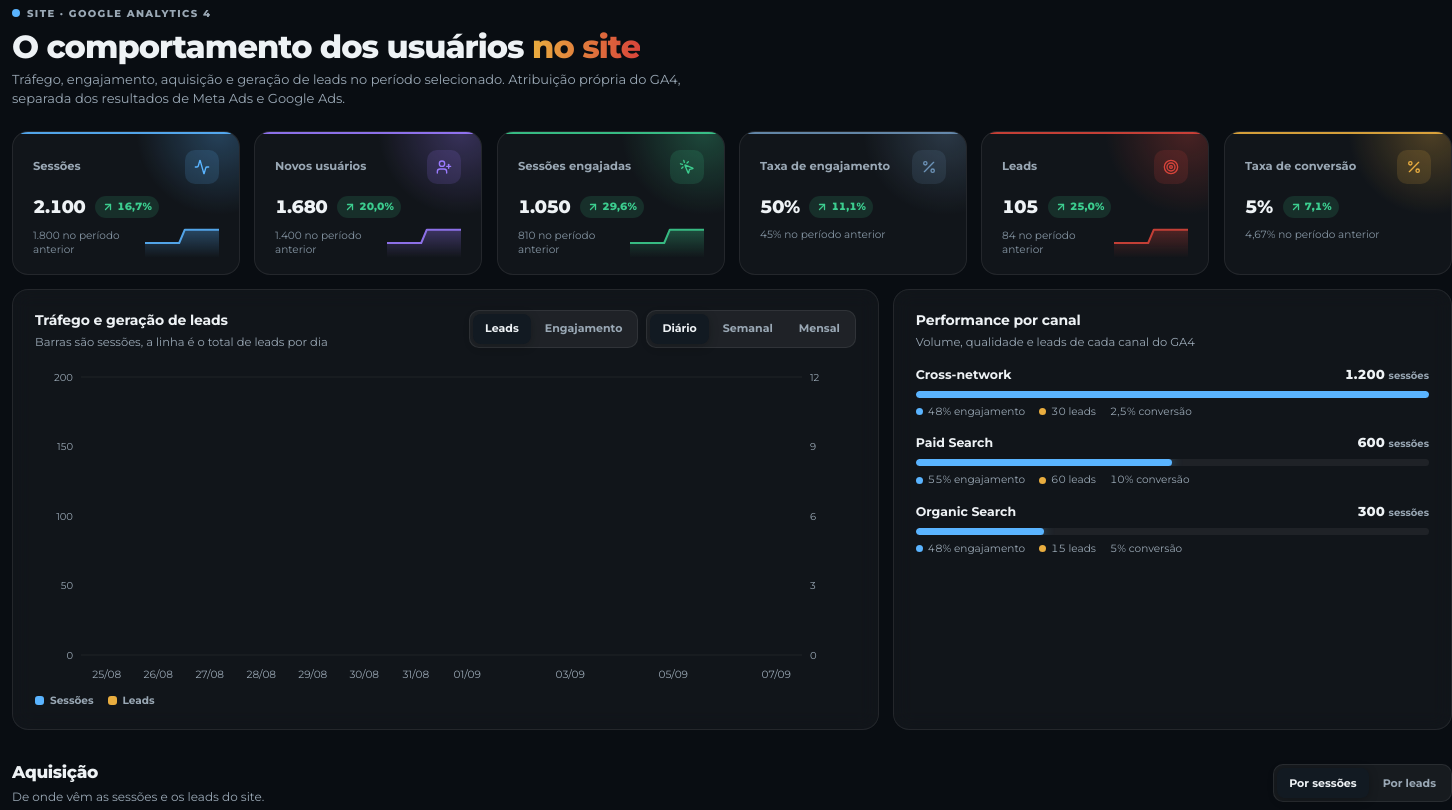
Scenario: aba Site: gráfico Tráfego e geração de leads › agrupa em semanas e em meses pelo seletor
Check: the element with test id "site-traffic-chart" is shown, box [35,365,856,685]
Click the tab "Semanal" at (748, 329), box [711,314,785,344]
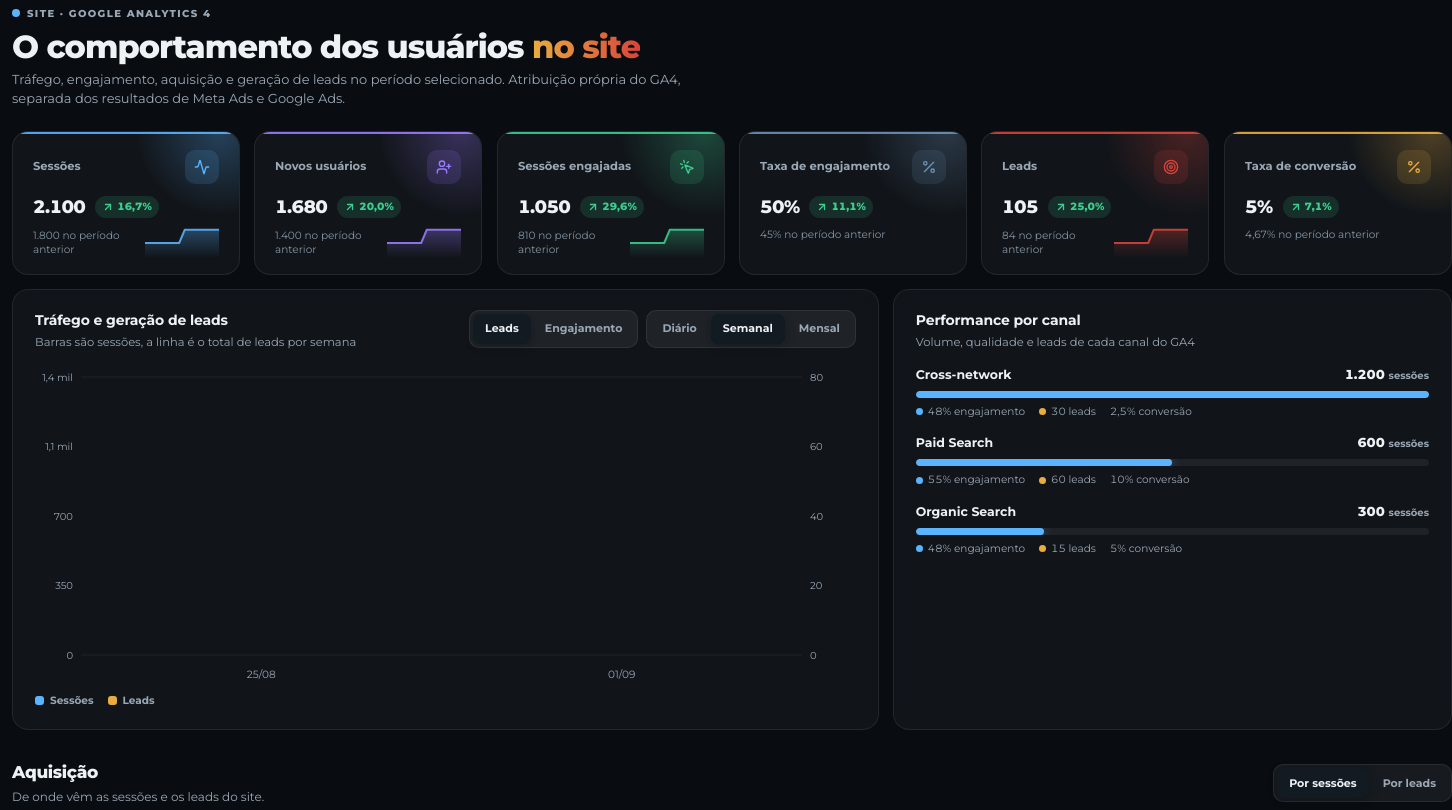
Check: the text "Barras são sessões, a linha é o total de leads por semana" is shown, box [35,334,356,351]
Click the tab "Mensal" at (819, 329), box [787,314,852,344]
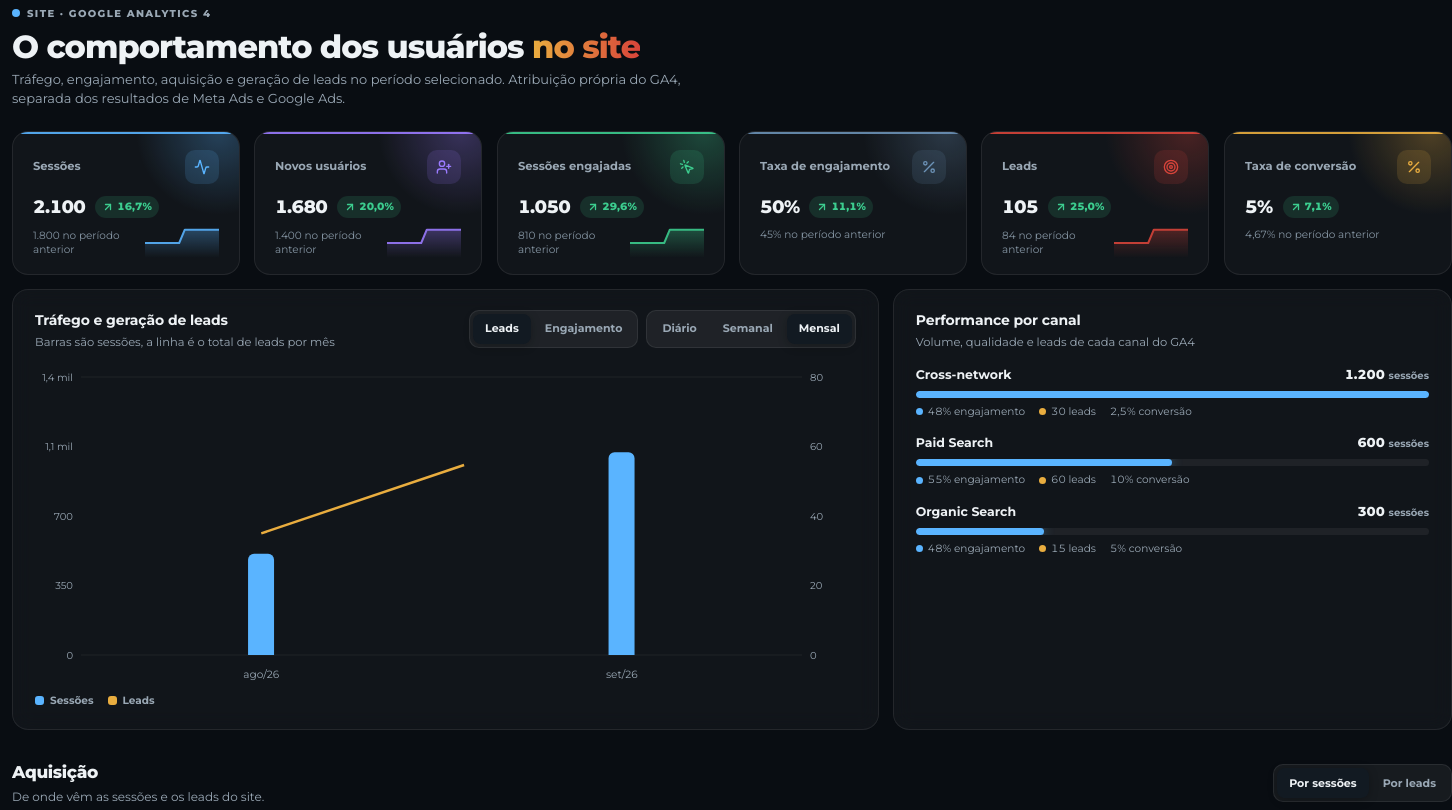
Check: the text "ago/26" is shown, box [243,668,280,681]
Check: the text "por mês" is shown, box [35,335,335,349]
Check: the text "Barras são sessões, a linha é o total de leads por mês" is shown, box [35,334,335,351]
